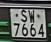4: (38, 22, 46, 40)
6: (21, 23, 30, 38), (30, 23, 38, 39)
7: (13, 22, 21, 38)
S: (20, 8, 28, 25)
W: (28, 9, 36, 25)
